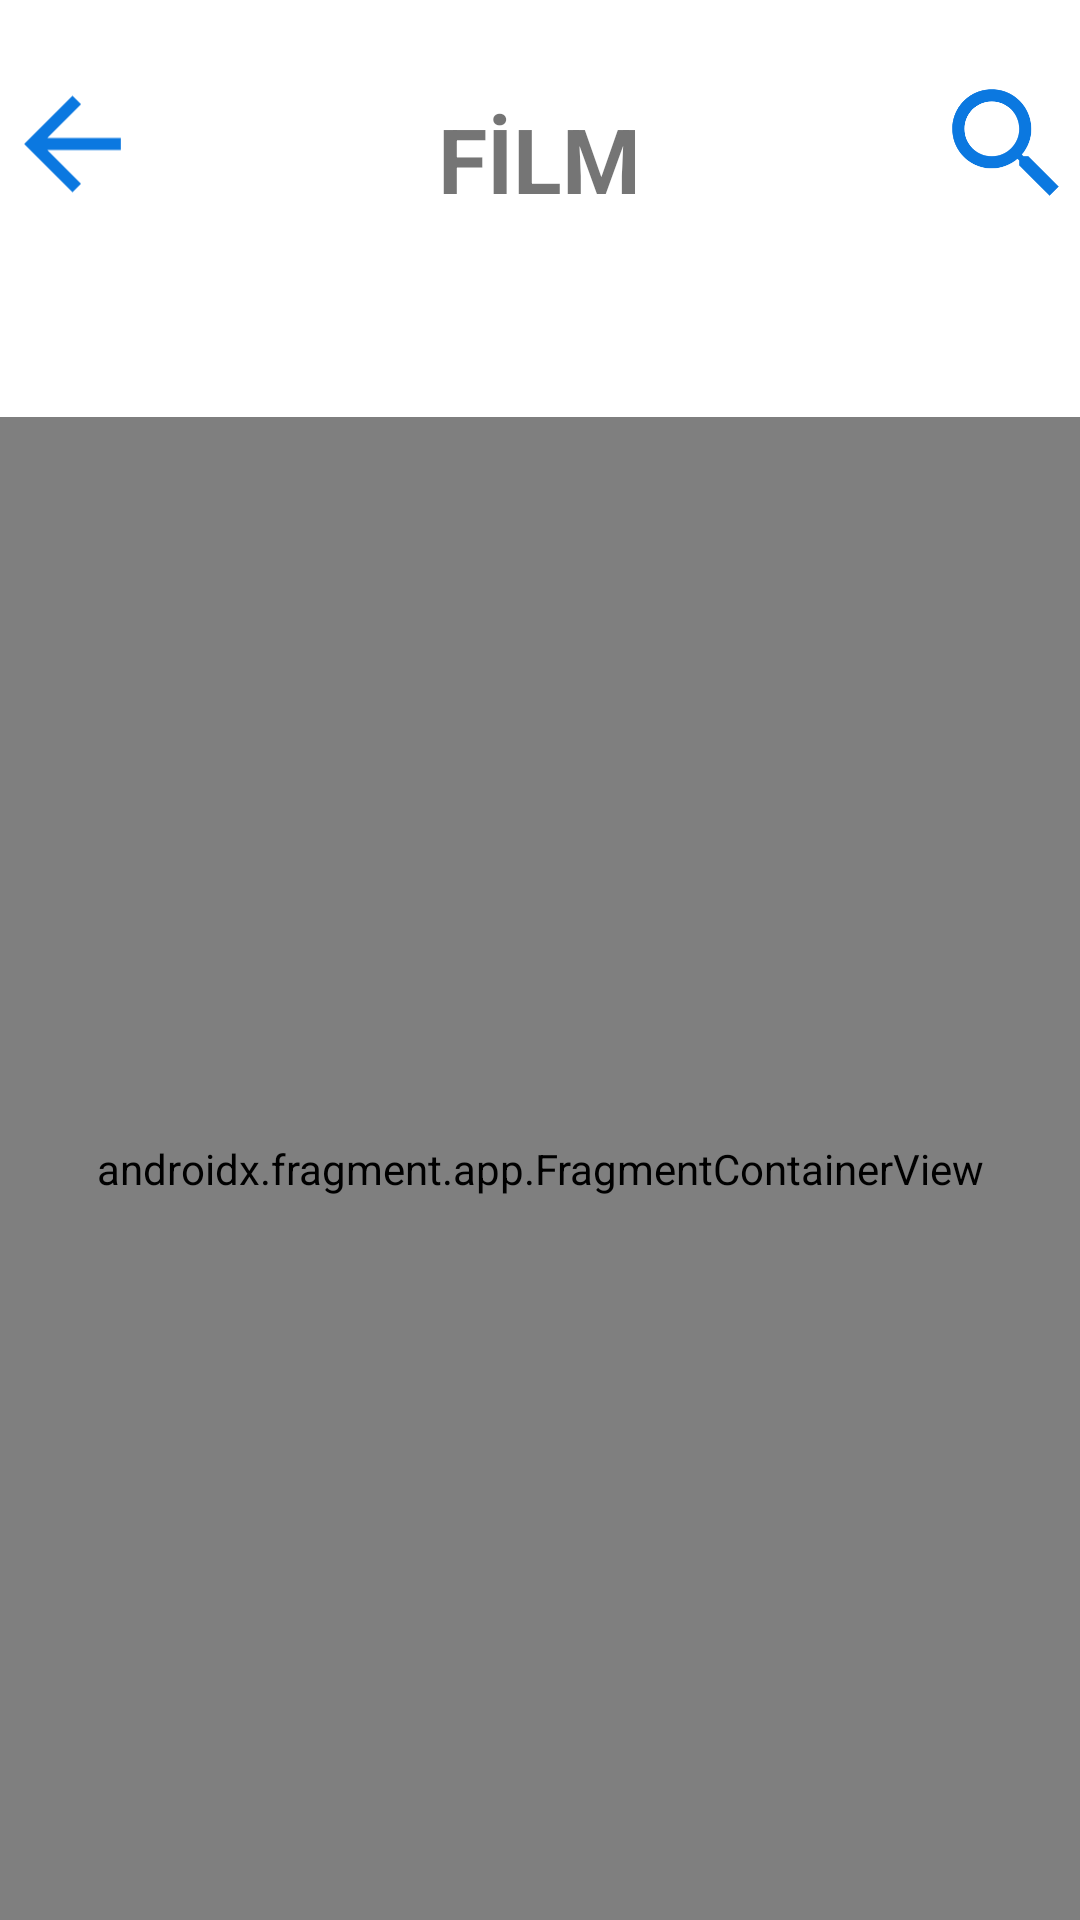

Named icons in this screenshot (1080x1920) and their centers, (x=x, y=y):
arrow back: (x=72, y=144)
search: (x=1005, y=142)
